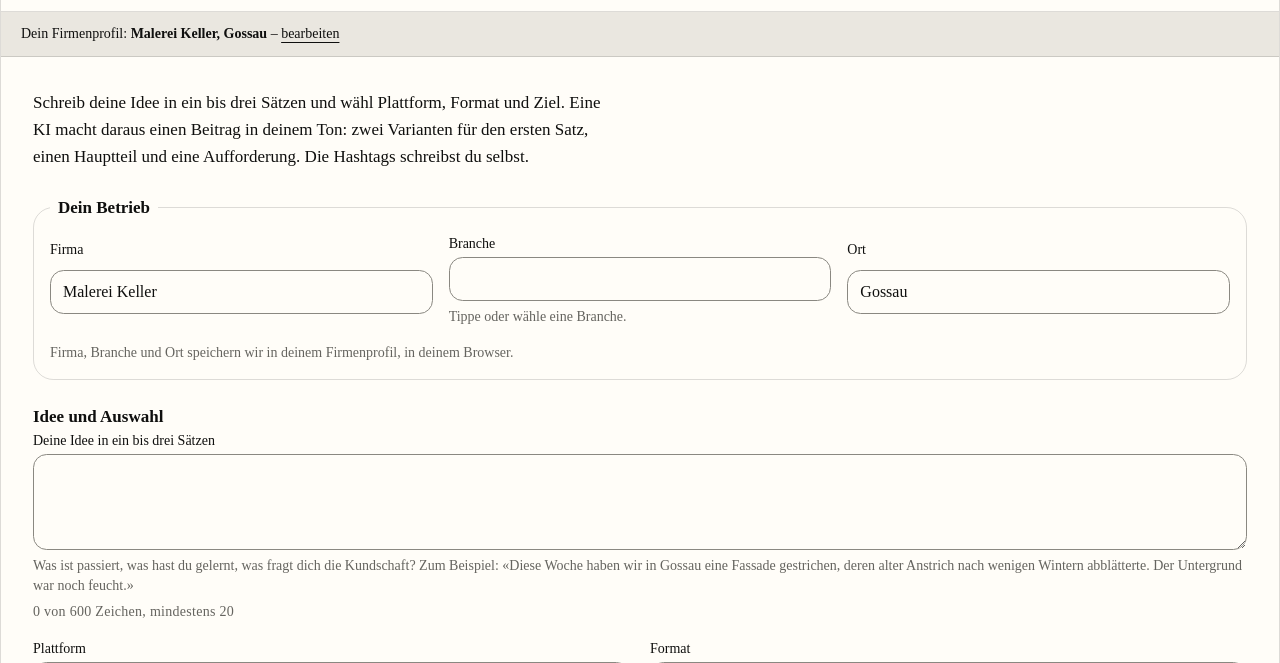
Test case: Post-Generator im Browser › wechselt den Hook in der Vorschau, merkt sich die Wahl und trägt Hashtags nur bei Instagram unter den Beitrag
Step 1. Click the text box labelled "Deine Idee in ein bis drei Sätzen" → (640, 502), box top-left (33, 454), bottom-right (1247, 550)
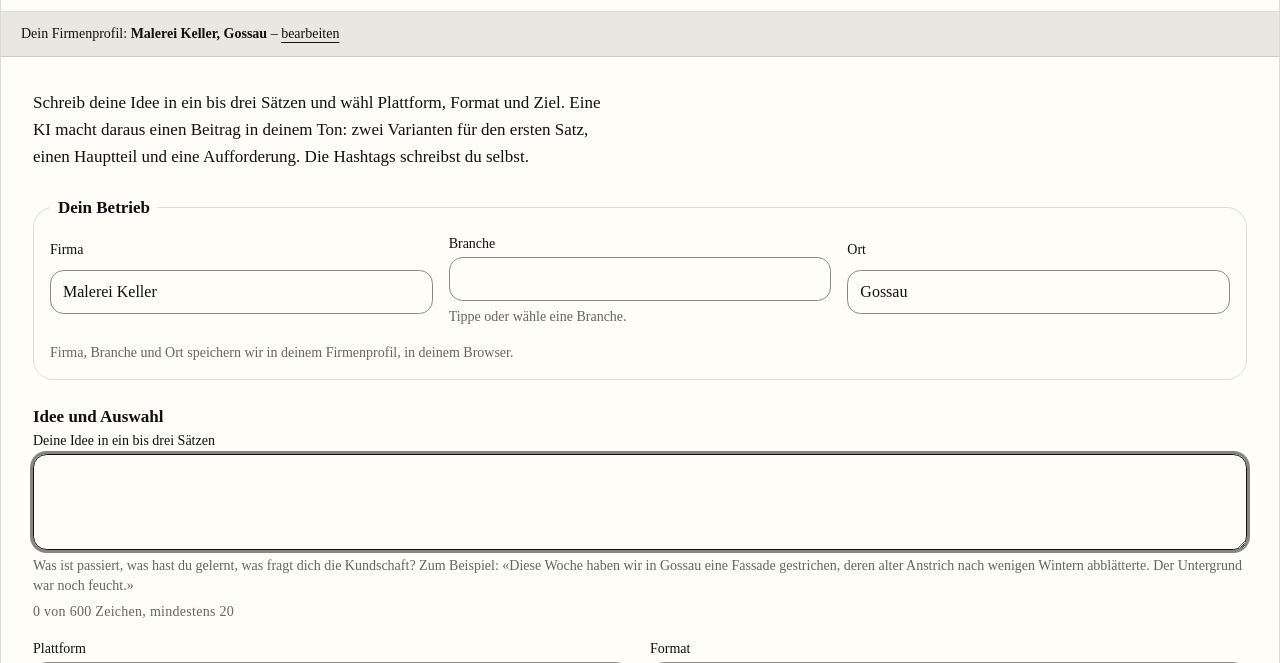
Step 2. Type keys "Diese Woche haben wir in Gossau eine Fassade gestrichen, deren alter Anstrich nach wenigen Wintern abblätterte."
(page scrolled)
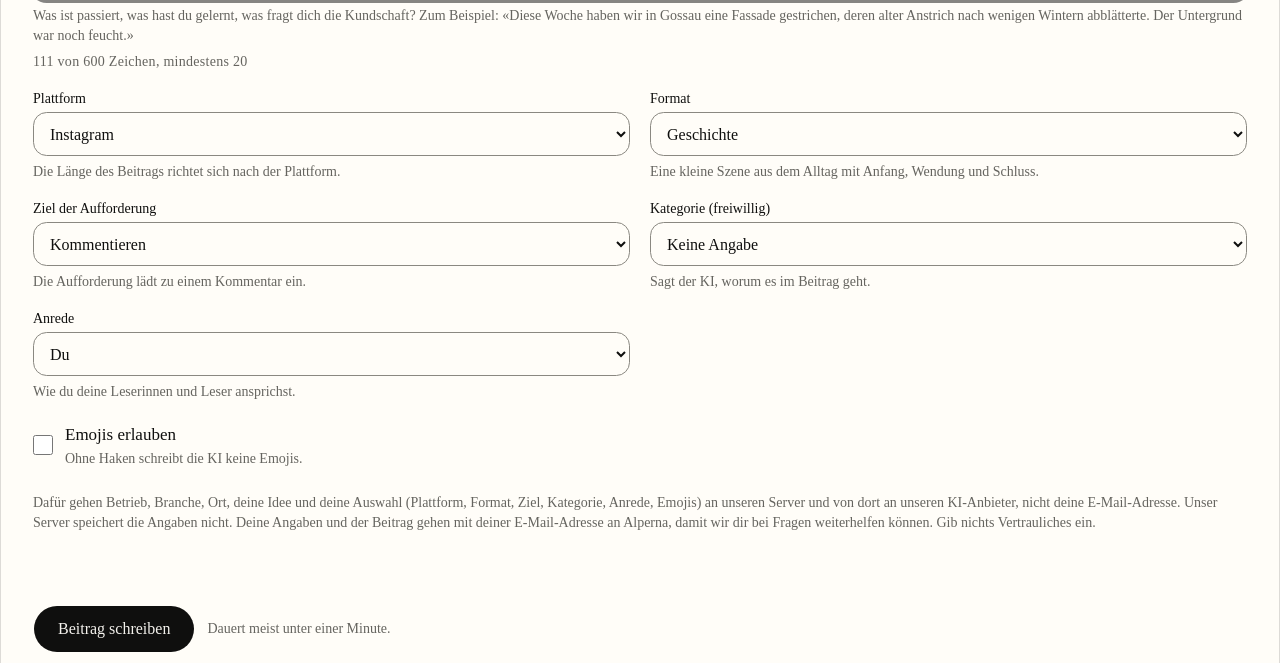
Step 3. Click the button "Beitrag schreiben" → (114, 629), box top-left (33, 605), bottom-right (195, 653)
(page scrolled)
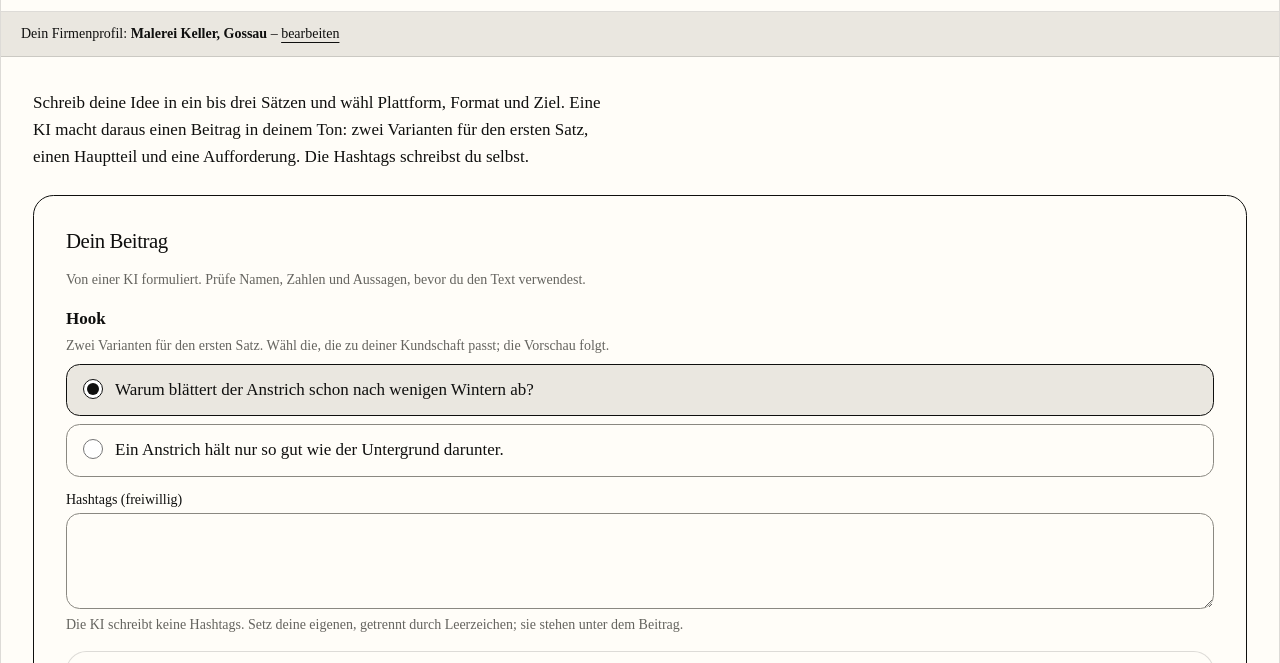
Step 4. Click the radio button labelled "Ein Anstrich hält nur so gut wie der Untergrund darunter." → (93, 449), box top-left (83, 439), bottom-right (103, 459)
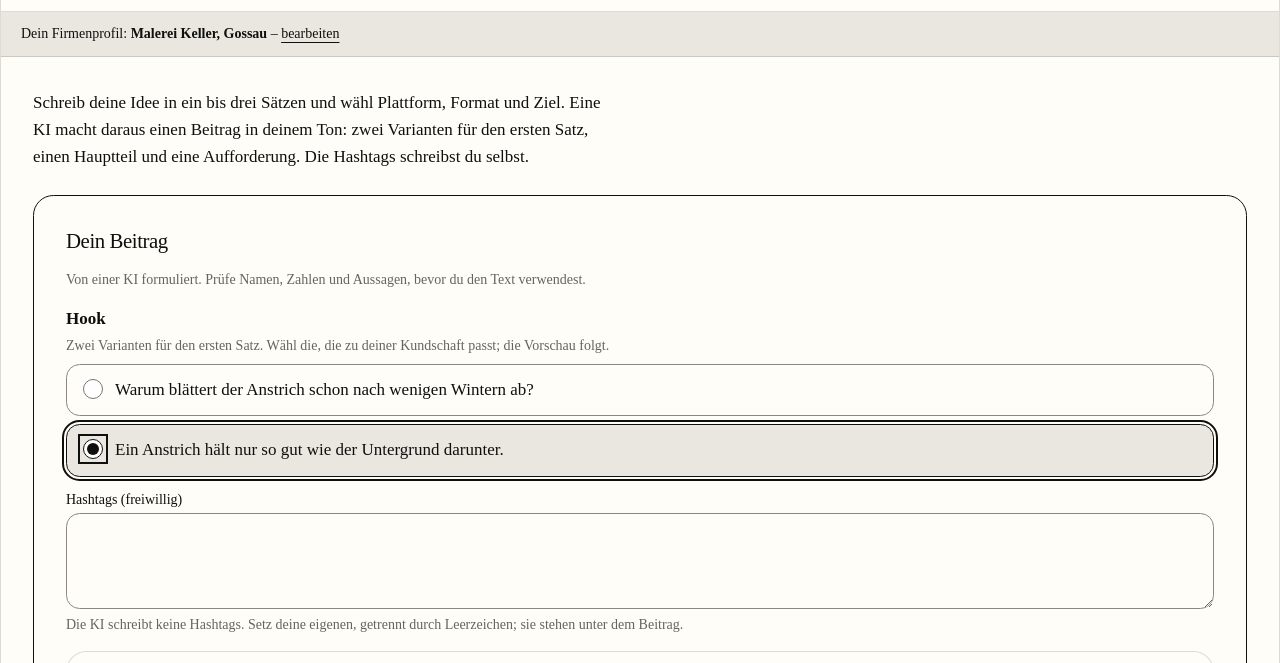
Step 5. Click the text box labelled "Hashtags (freiwillig)" → (640, 561), box top-left (66, 513), bottom-right (1214, 609)
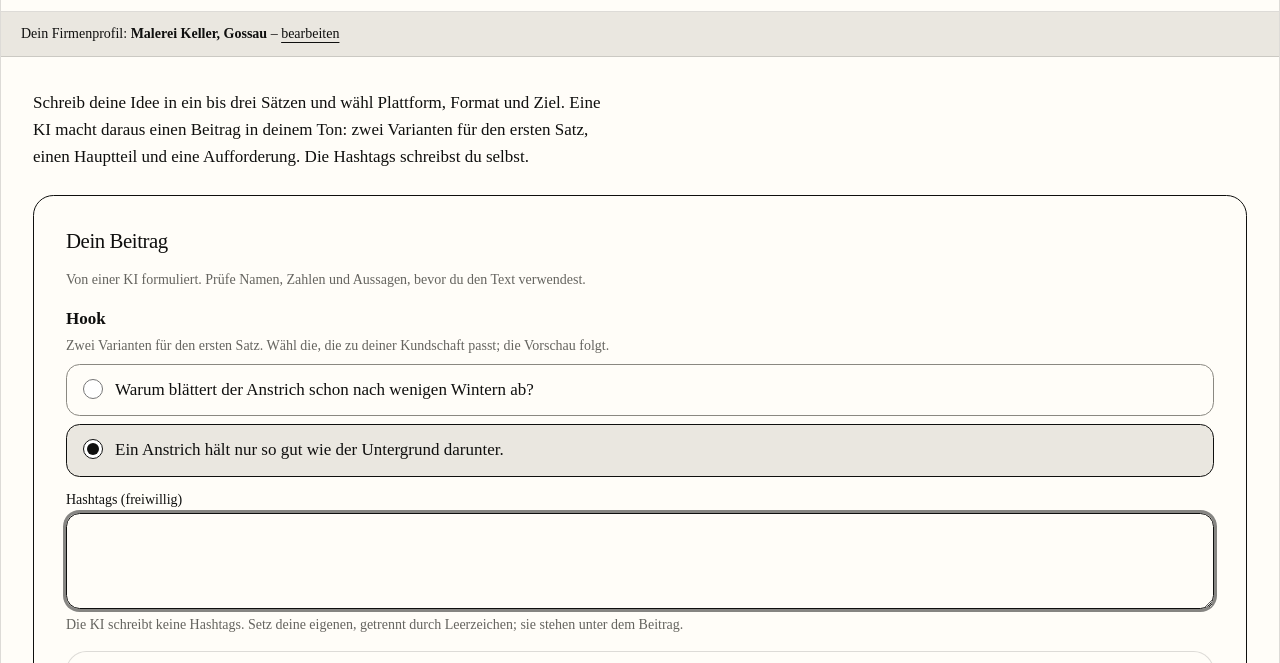
Step 6. Type keys "malerei, #Gossau"
(page scrolled)
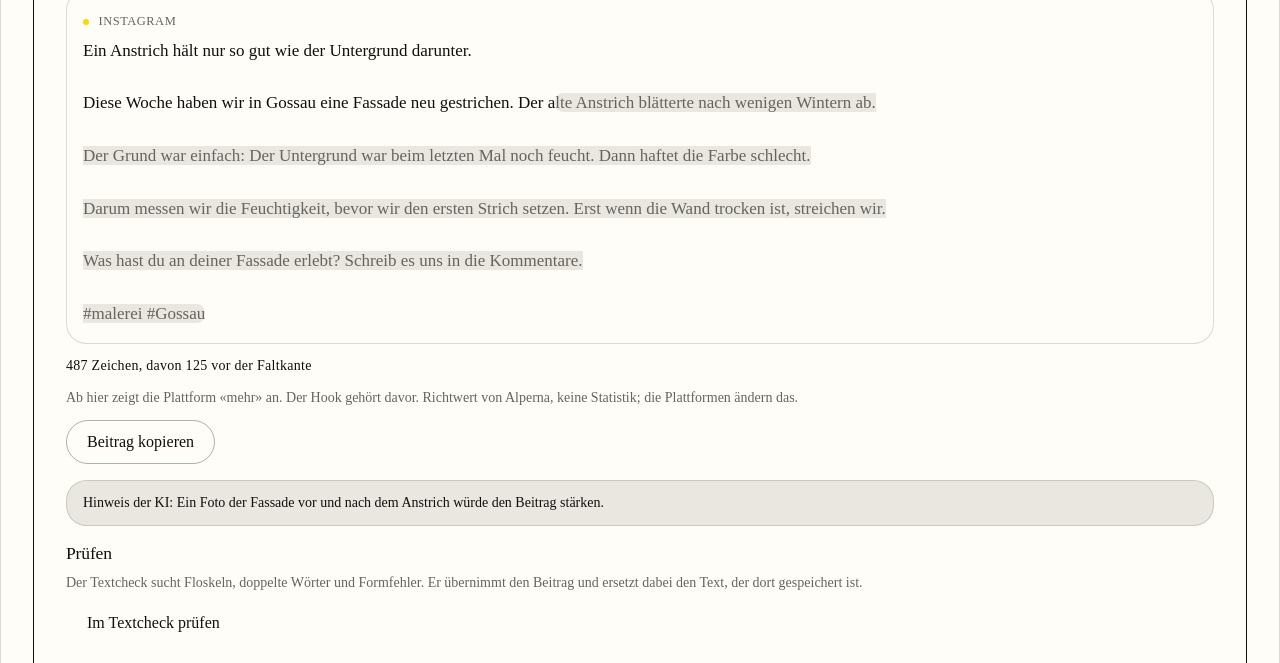
Result: the text with test id "pg-counter" shows "Zeichen, davon 125 vor der Faltkante" at top-left (66, 358), bottom-right (312, 374)
Result: the element with test id "pg-text" shows "#malerei #Gossau" at top-left (83, 93), bottom-right (886, 323)
